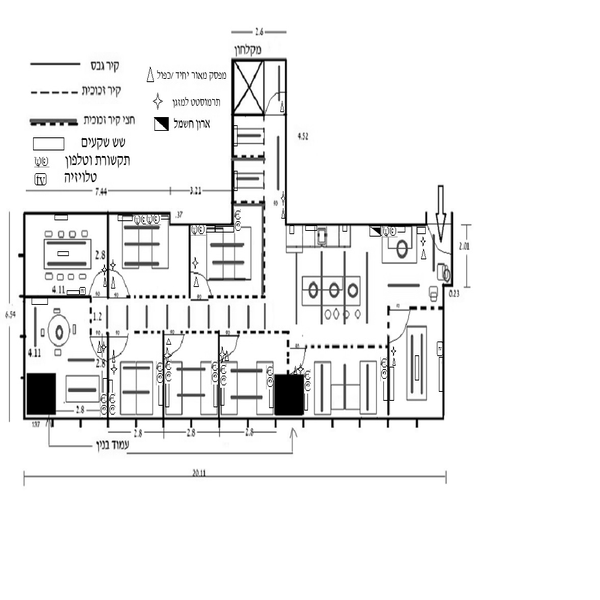door: (81, 335, 132, 363), (185, 266, 219, 307), (87, 268, 128, 302), (280, 345, 309, 380), (387, 298, 406, 344), (157, 329, 182, 358), (211, 333, 242, 354)
